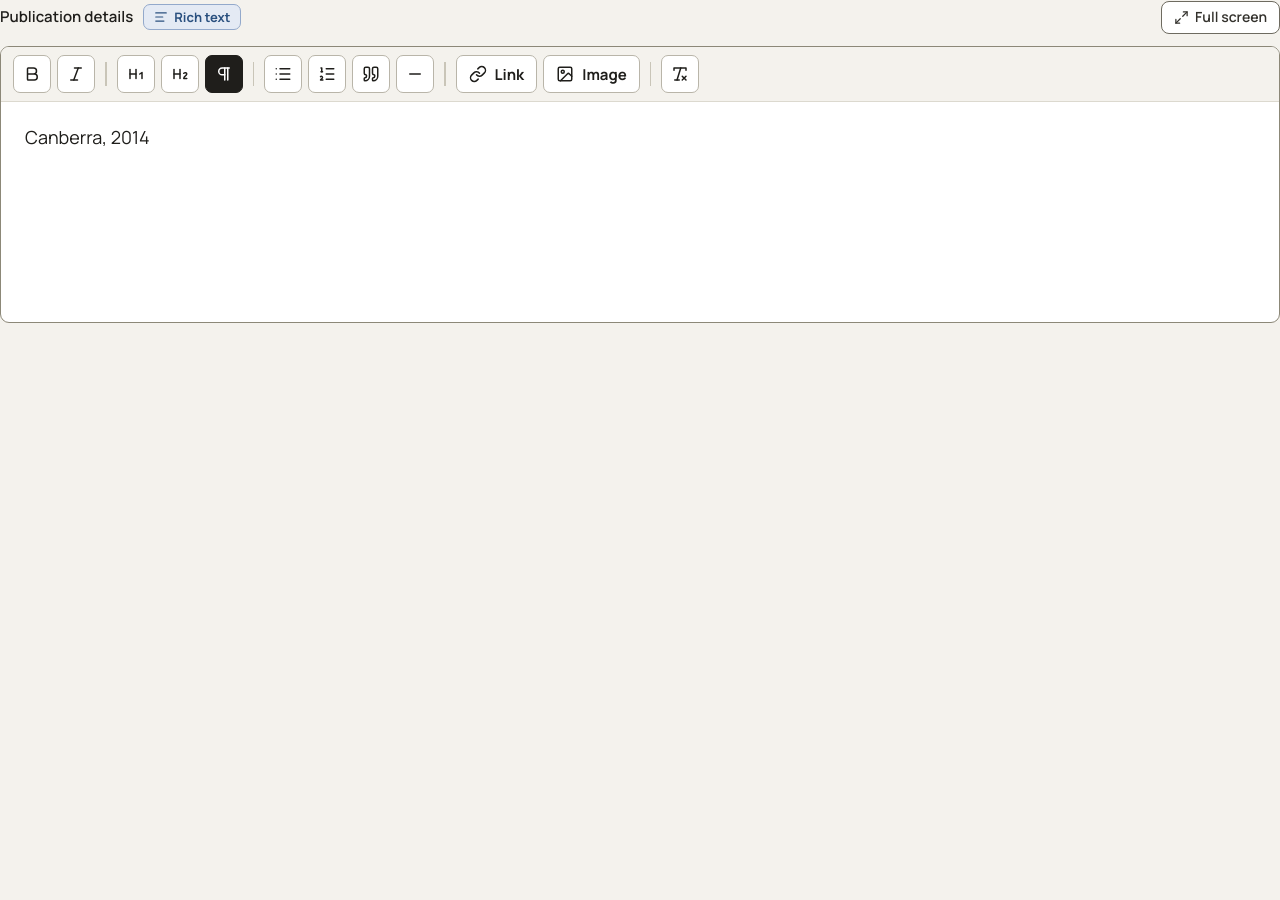
Test case: RichtextEditor full screen › opens from the field label row and closes with Done writing, keeping one document
Expected: the button titled "Bold" is shown, left=13, top=55, right=51, bottom=93
Click the button "Full screen": (1221, 17) left=1161, top=0, right=1279, bottom=34
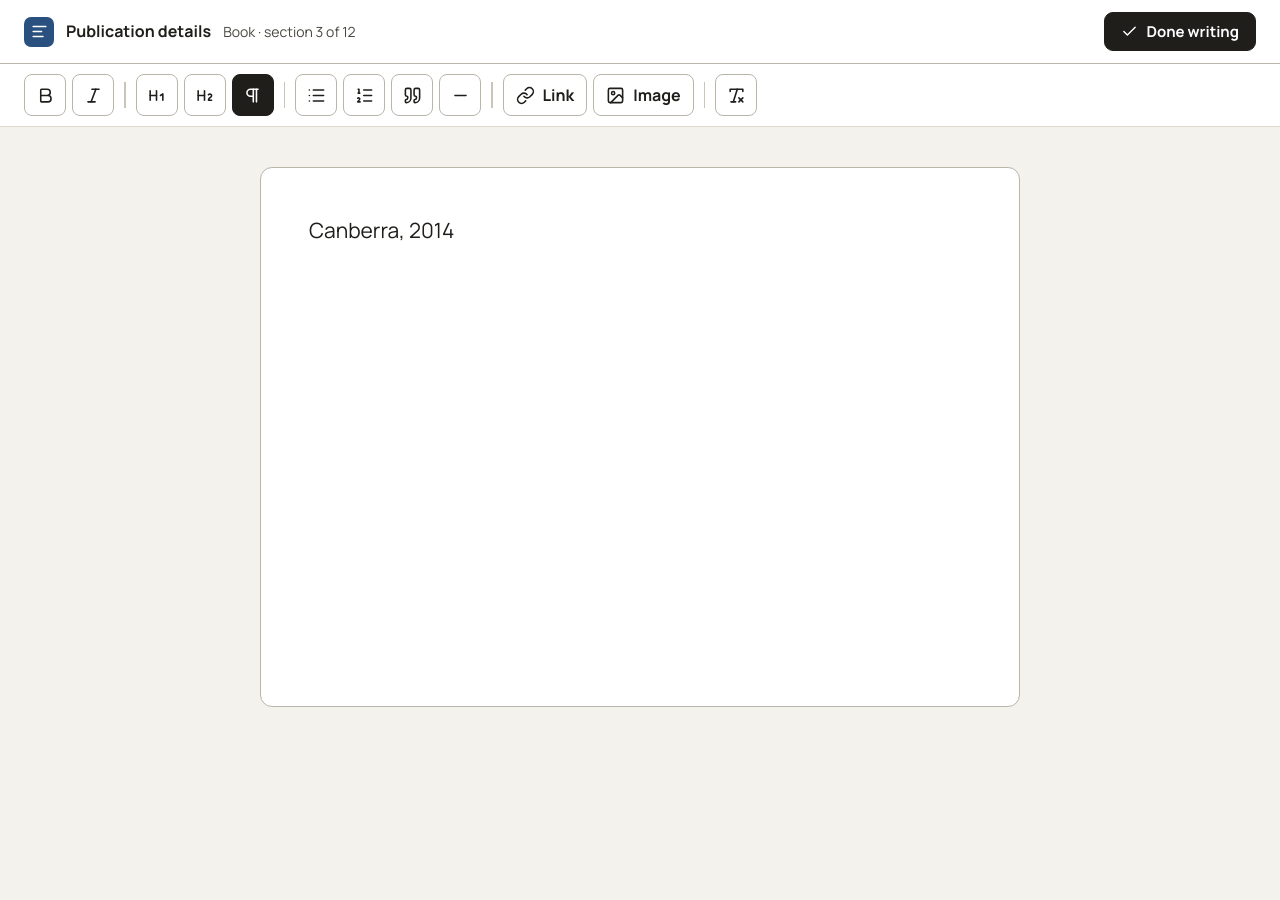
Expected: the number of fields is 1, left=309, top=216, right=454, bottom=244
Expected: the dialog "Publication details" shows "Book · section 3 of 12", left=223, top=22, right=356, bottom=41
Click the button "Done writing": (1180, 32) left=1104, top=12, right=1256, bottom=51
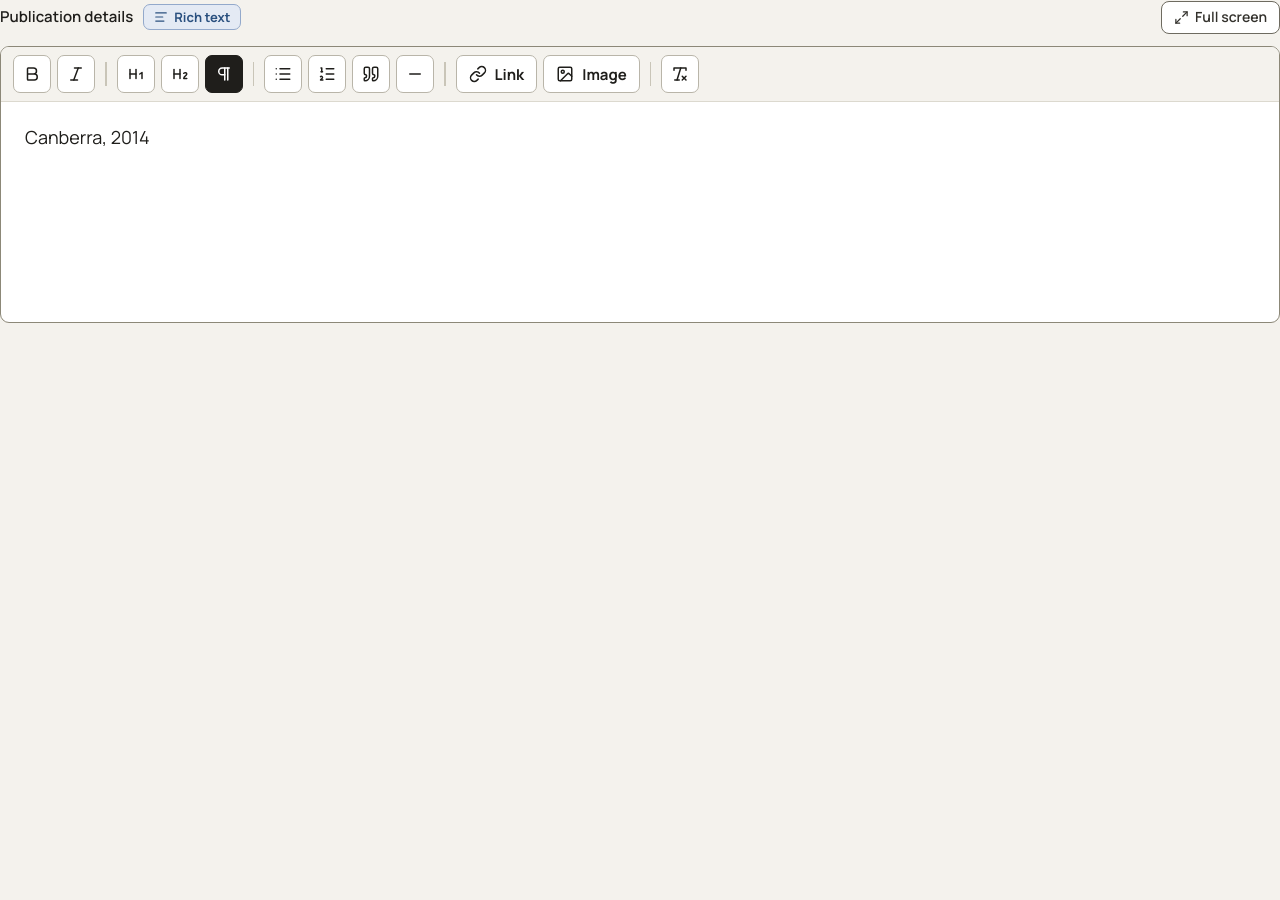
Expected: the number of fields is 1, left=25, top=125, right=150, bottom=149
Expected: the dialog is gone
